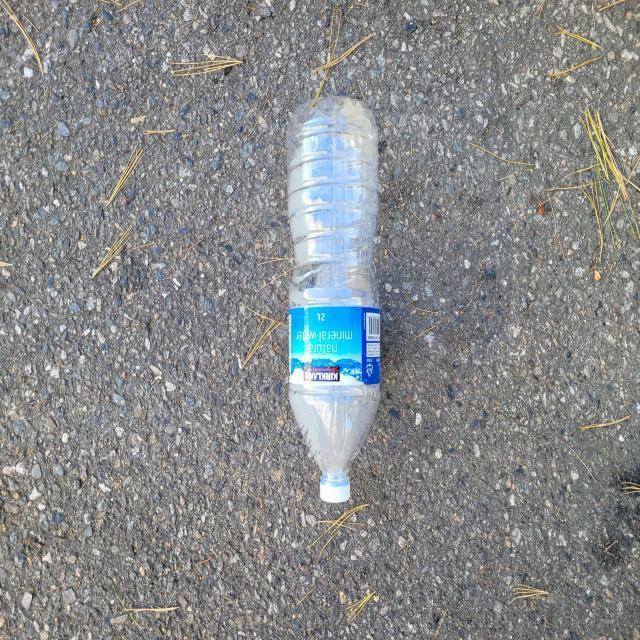plastic_bottle: (286, 98, 381, 502)
